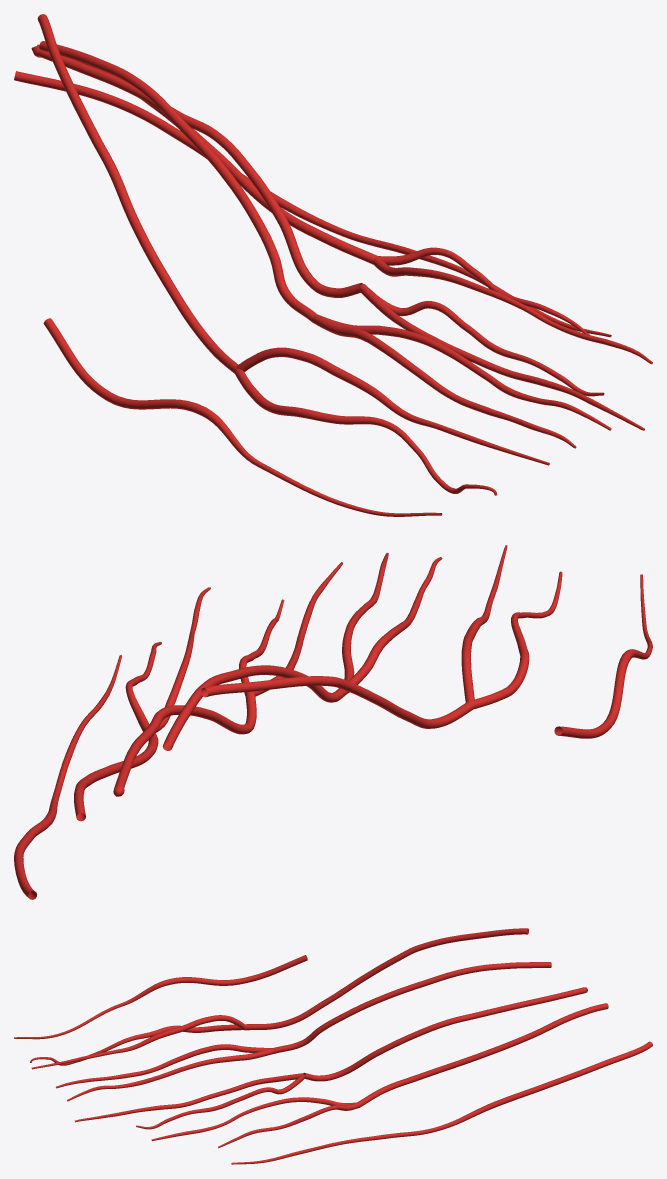
The model's file is circulatorio-plantar-metatarsal-veins-l.glb.
The picture shows the model from 3 angles, top to bottom: view 1: azimuth 30°, elevation 25°; view 2: azimuth 150°, elevation 25°; view 3: azimuth 270°, elevation 25°; orthographic projection. The views are drawn at different scales.
Visible parts, largest first — view 1: Plantar digital veins.l, Plantar metatarsal veins.l; view 2: Plantar digital veins.l, Plantar metatarsal veins.l; view 3: Plantar digital veins.l, Plantar metatarsal veins.l.
Part boxes in pixels (bbox=[...]): Plantar digital veins.l: bbox=[14, 71, 652, 516]; Plantar metatarsal veins.l: bbox=[31, 14, 377, 373]; Plantar digital veins.l: bbox=[14, 545, 652, 899]; Plantar metatarsal veins.l: bbox=[74, 665, 474, 821]; Plantar digital veins.l: bbox=[14, 955, 652, 1164]; Plantar metatarsal veins.l: bbox=[244, 928, 608, 1107].
Size of the model in its own units: 0.0829 by 0.0361 by 0.1479.
